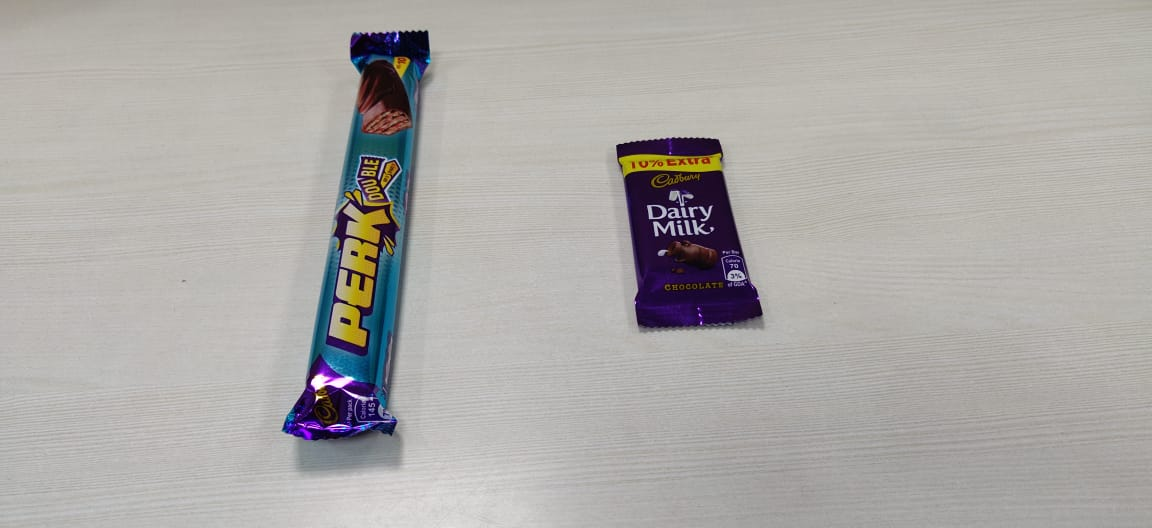dairy milk: (608, 130, 771, 338)
perk: (275, 19, 438, 461)
